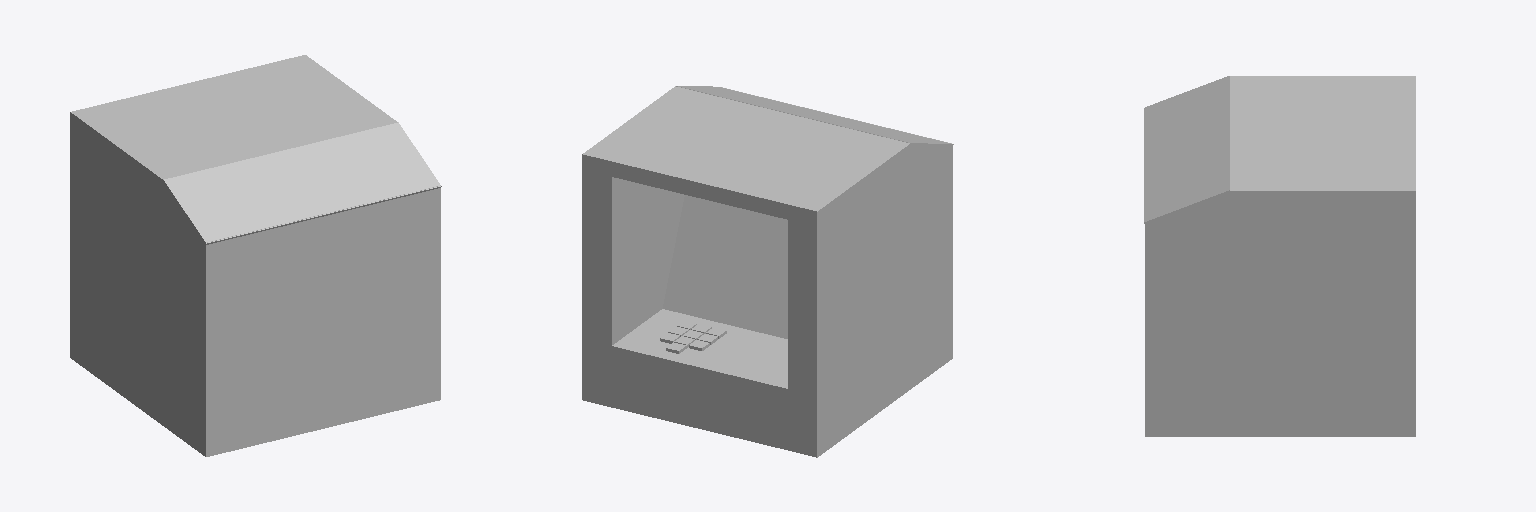
File: atm.obj
3 views of the same model, side by side, from view 1: azimuth 30°, elevation 25°; view 2: azimuth 150°, elevation 25°; view 3: azimuth 270°, elevation 25° (orthographic).
Visible parts, largest first — view 1: cube; view 2: cube; view 3: cube.
Part boxes in pixels (bbox=[...]): cube: bbox=[70, 55, 441, 456]; cube: bbox=[582, 86, 953, 457]; cube: bbox=[1144, 76, 1415, 436].
Bounding box in the file's own units: 1 × 1 × 1.